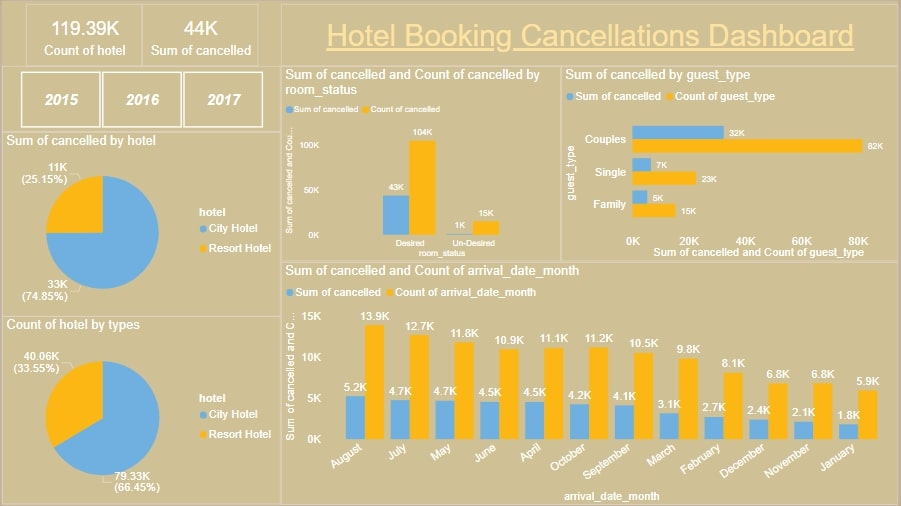

What the dashboard file says about the page in this screenshot:
{"tool":"powerbi","page":{"name":"Page 1","canvas":[1280,720],"ordinal":0},"visuals":[{"type":"clusteredBarChart","title":"Sum of cancelled by guest_type","fields":{"Category":["hotel_booking1.guest_type"],"Y":["Sum(hotel_booking1.is_canceled)","CountNonNull(hotel_booking1.guest_type)"]},"box":[798,93.5,481.9,279.2],"z":0},{"type":"pieChart","title":"Count of hotel by types","fields":{"Category":["hotel_booking1.hotel"],"Y":["CountNonNull(hotel_booking1.hotel)"]},"box":[0,450.7,398.3,269.3],"z":1000},{"type":"clusteredColumnChart","title":"Sum of cancelled and Count of arrival_date_month ","fields":{"Category":["hotel_booking1.arrival_date_month"],"Y":["Sum(hotel_booking1.is_canceled)","CountNonNull(hotel_booking1.arrival_date_month)"]},"box":[398.3,372.8,881.6,347.2],"z":2000},{"type":"pieChart","fields":{"Y":["Sum(hotel_booking1.is_canceled)"],"Series":["hotel_booking1.hotel"]},"box":[0,187.1,398.3,263.6],"z":3000},{"type":"clusteredColumnChart","fields":{"Y":["Sum(hotel_booking1.is_canceled)","CountNonNull(hotel_booking1.is_canceled)"],"Category":["hotel_booking1.room_status"]},"box":[398.3,93.5,399.7,279.2],"z":4000},{"type":"card","fields":{"Values":["CountNonNull(hotel_booking1.hotel)"]},"box":[34,4.3,165.8,89.3],"z":5000},{"type":"card","fields":{"Values":["Sum(hotel_booking1.is_canceled)"]},"box":[199.8,4.3,165.8,89.3],"z":6000},{"type":"slicer","fields":{"Values":["hotel_booking1.arrival_date_year"]},"box":[0,93.5,398.3,93.5],"z":7000},{"type":"textbox","box":[398.3,4.3,881.6,89.3],"z":8000}]}

Visuals, with their boxes in screenshot pixels (x1, y1, x2, y2), scaled from the page's 1280x720 canvas onto the 901x506 screenshot:
"Sum of cancelled by guest_type" clusteredBarChart: locate(562, 66, 900, 262)
"Count of hotel by types" pieChart: locate(0, 317, 280, 505)
"Sum of cancelled and Count of arrival_date_month " clusteredColumnChart: locate(280, 262, 900, 505)
pieChart - Sum(hotel_booking1.is_canceled) x hotel_booking1.hotel: locate(0, 131, 280, 317)
clusteredColumnChart - Sum(hotel_booking1.is_canceled) x CountNonNull(hotel_booking1.is_canceled): locate(280, 66, 562, 262)
card - CountNonNull(hotel_booking1.hotel): locate(24, 3, 141, 66)
card - Sum(hotel_booking1.is_canceled): locate(141, 3, 257, 66)
slicer - hotel_booking1.arrival_date_year: locate(0, 66, 280, 131)
textbox: locate(280, 3, 900, 66)
